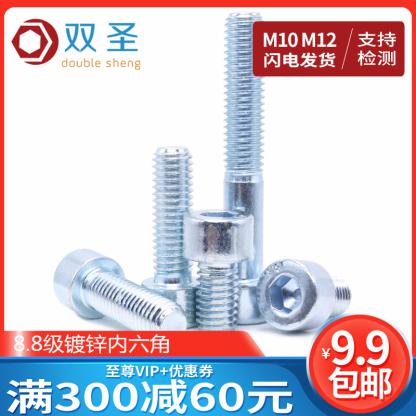FOD: (211, 10, 278, 328), (50, 246, 186, 344), (138, 145, 205, 321), (181, 210, 257, 334), (259, 260, 354, 334)
